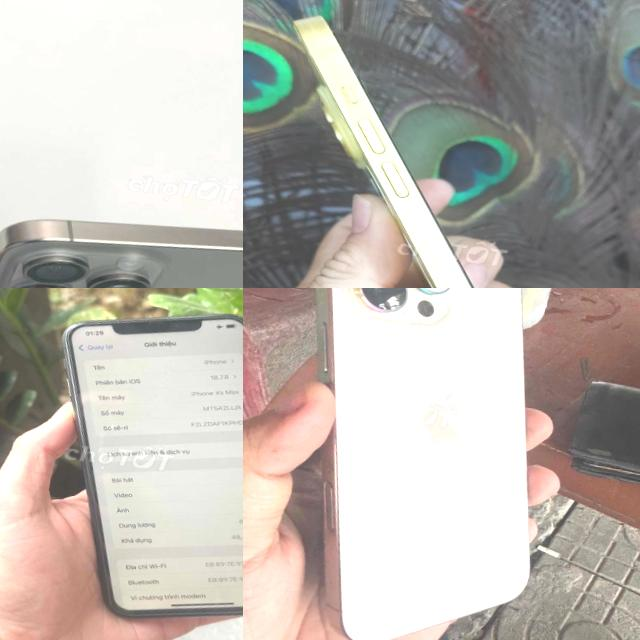gen_14: (243, 0, 640, 288)
gen_15: (0, 180, 243, 288)
gen_16: (315, 288, 528, 640)
gen_x_xs: (17, 288, 243, 640)
